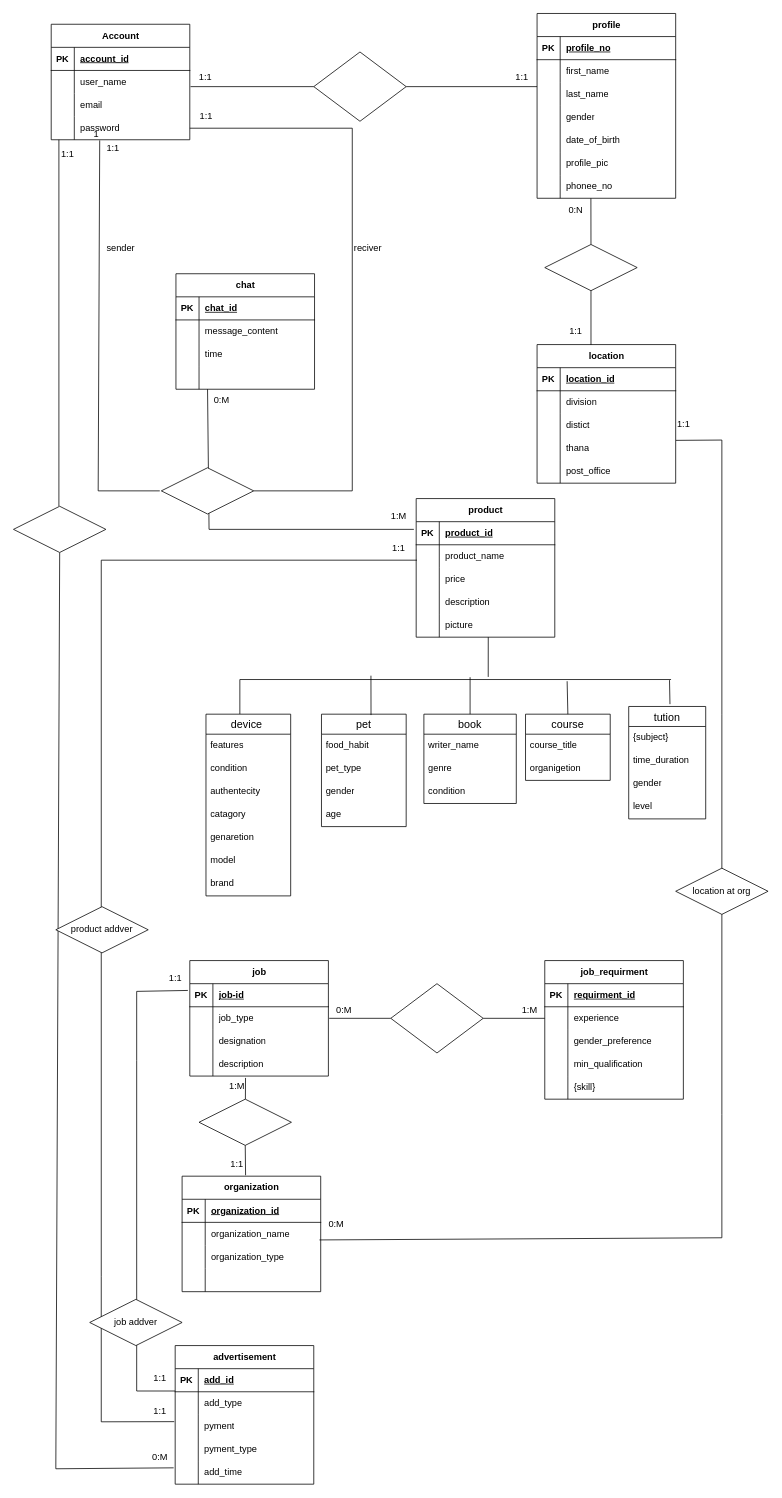
Image size: 782x1498. Some labels were removed from this diagram. The shapes that lost their labels are listed below. From the top down, each one's centre as x and y in pixels, then its label:
At [359,86]: "account has a profile".
At [590,267]: "Lives".
At [207,490]: "discation".
At [59,529]: "make addver".
At [436,1018]: "job needs requirment".
At [244,1121]: "job at org".
